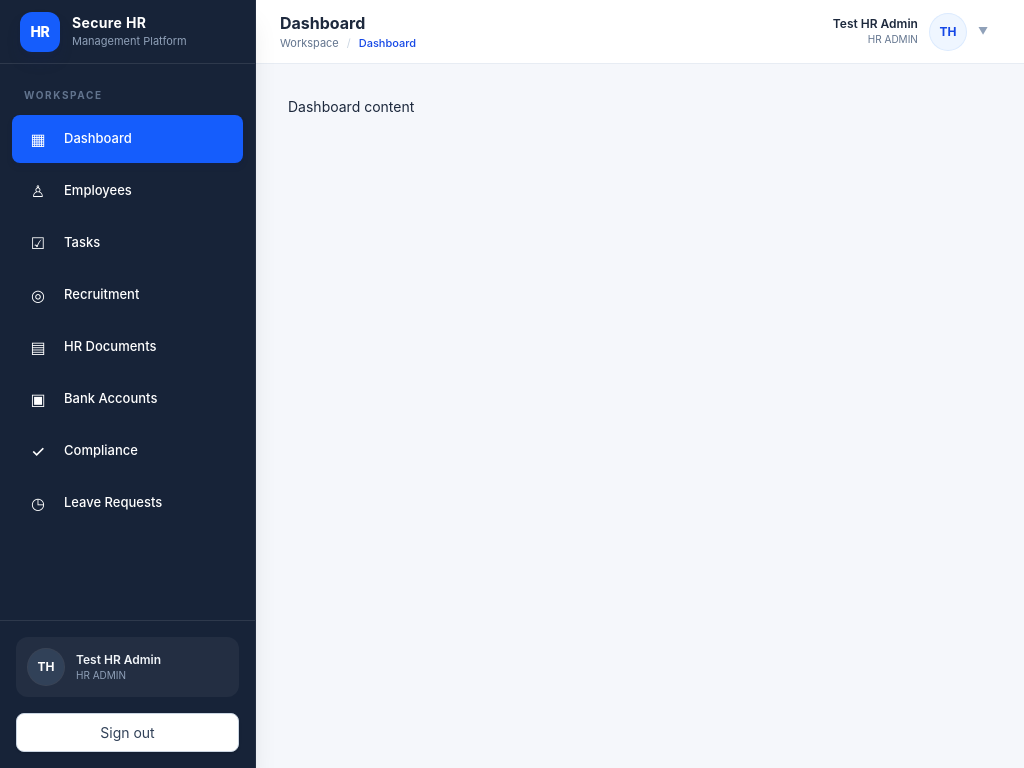
it: AppLayout › closes the user menu when Escape is pressed
The width and height of the screenshot is (1024, 768).
Step 1. Click the button with aria-label "Open user menu" → {"x": 910, "y": 32}, box [821,8,1000,56]
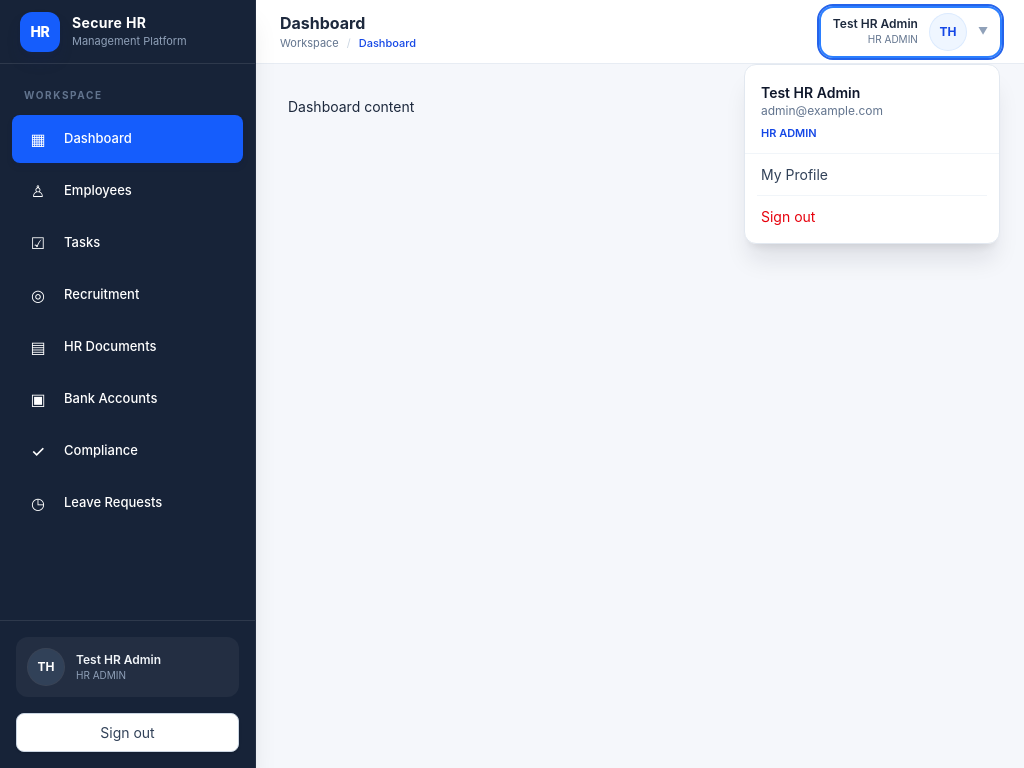
Now the menu is shown, box [744,64,1000,244]
Step 2. Press Escape
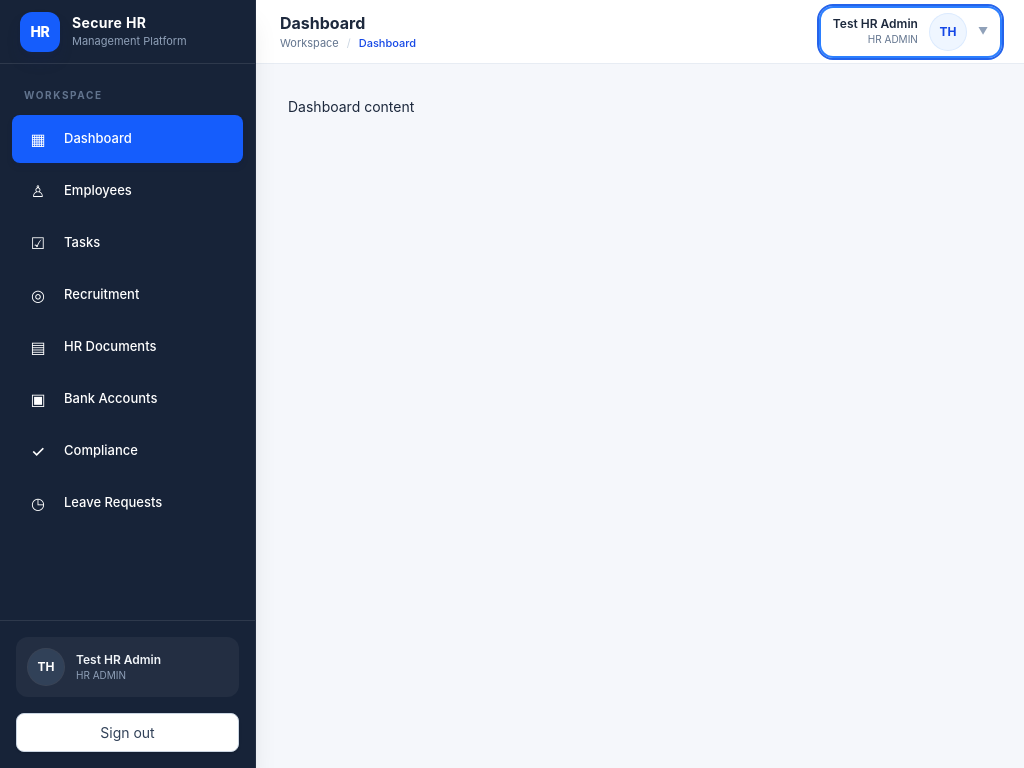
Now the menu is gone
